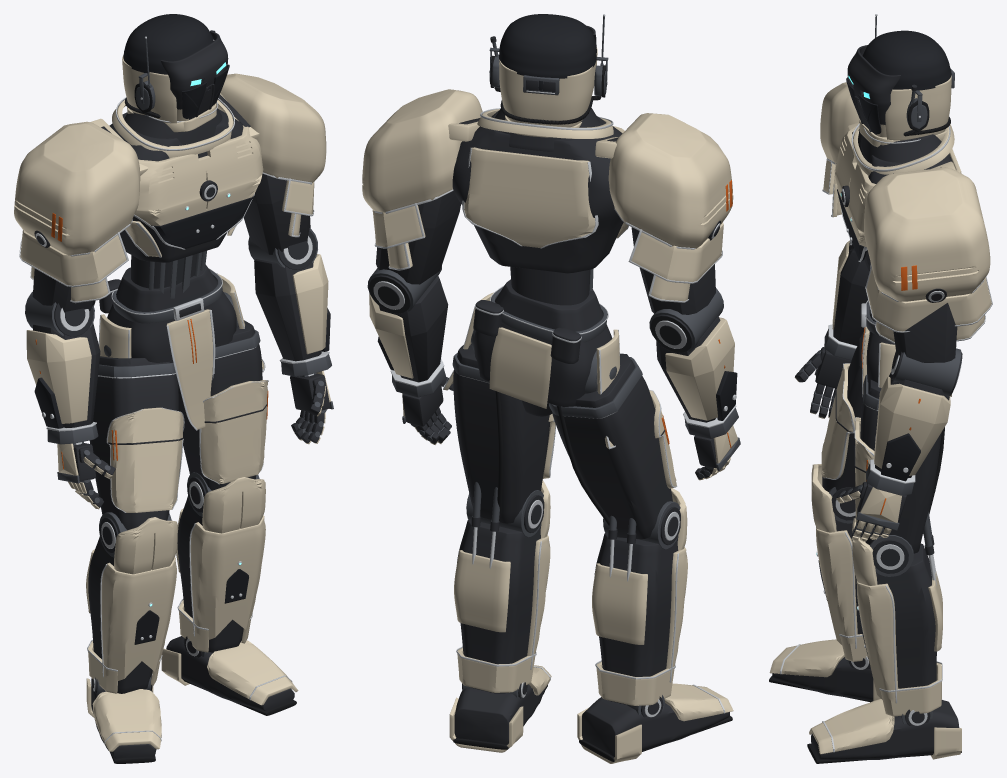
The model's file is paladin.glb.
3 renders of one model, left to right at view 1: azimuth 30°, elevation 25°; view 2: azimuth 150°, elevation 25°; view 3: azimuth 270°, elevation 25°, orthographic. The views are drawn at different scales.
Parts seen in each view (by area): view 1: pauldron_r, chest, pauldron_l, thigh_R_thigh_shell, shin_R_shin_shell, shin_L_shin_shell, thigh_L_thigh_shell, thigh_R_thigh_core, pelvis_core, arm_R_fore_shell, cap, tasset (+41 smaller); view 2: pauldron_r, thigh_R_thigh_core, back, thigh_L_thigh_core, pauldron_l, torso_core, shin_R_shin_core, shin_L_shin_core, pelvis_core, cap, arm_R_fore_shell, foot_R_foot_core (+37 smaller); view 3: pauldron_l, shin_L_shin_core, arm_L_fore_shell, cap, shin_L_shin_shell, shin_R_shin_shell, thigh_L_thigh_core, pauldron_l_flare, foot_L_foot_core, foot_L_toe_cap, arm_L_upper_body, arm_R_fore_body (+33 smaller).
Boxes of the visible parts, bbox=[...] form: pauldron_r: bbox=[14, 121, 140, 255]; chest: bbox=[134, 126, 263, 225]; pauldron_l: bbox=[220, 73, 326, 182]; thigh_R_thigh_shell: bbox=[107, 407, 183, 512]; shin_R_shin_shell: bbox=[101, 557, 176, 680]; shin_L_shin_shell: bbox=[190, 515, 265, 639]; thigh_L_thigh_shell: bbox=[200, 380, 267, 483]; thigh_R_thigh_core: bbox=[89, 356, 178, 530]; pelvis_core: bbox=[107, 265, 236, 374]; arm_R_fore_shell: bbox=[26, 330, 91, 423]; cap: bbox=[123, 14, 213, 74]; tasset: bbox=[166, 309, 212, 429]; pauldron_r: bbox=[608, 113, 733, 248]; thigh_R_thigh_core: bbox=[552, 353, 672, 539]; back: bbox=[464, 147, 595, 247]; thigh_L_thigh_core: bbox=[453, 344, 550, 523]; pauldron_l: bbox=[362, 89, 482, 212]; torso_core: bbox=[452, 110, 623, 273]; shin_R_shin_core: bbox=[594, 532, 678, 706]; shin_L_shin_core: bbox=[457, 519, 541, 693]; pelvis_core: bbox=[474, 279, 612, 406]; cap: bbox=[499, 14, 596, 78]; arm_R_fore_shell: bbox=[665, 317, 734, 420]; foot_R_foot_core: bbox=[582, 697, 729, 756]; pauldron_l: bbox=[864, 167, 990, 301]; shin_L_shin_core: bbox=[876, 543, 936, 688]; arm_L_fore_shell: bbox=[874, 376, 950, 475]; cap: bbox=[862, 30, 951, 90]; shin_L_shin_shell: bbox=[856, 580, 898, 699]; shin_R_shin_shell: bbox=[816, 527, 857, 644]; thigh_L_thigh_core: bbox=[860, 379, 941, 553]; pauldron_l_flare: bbox=[866, 268, 991, 331]; foot_L_foot_core: bbox=[811, 700, 959, 760]; foot_L_toe_cap: bbox=[809, 699, 894, 754]; arm_L_upper_body: bbox=[893, 303, 957, 362]; arm_R_fore_body: bbox=[833, 243, 869, 345].
Size of the model in its own units: 0.8023 by 1.71 by 0.4997.
